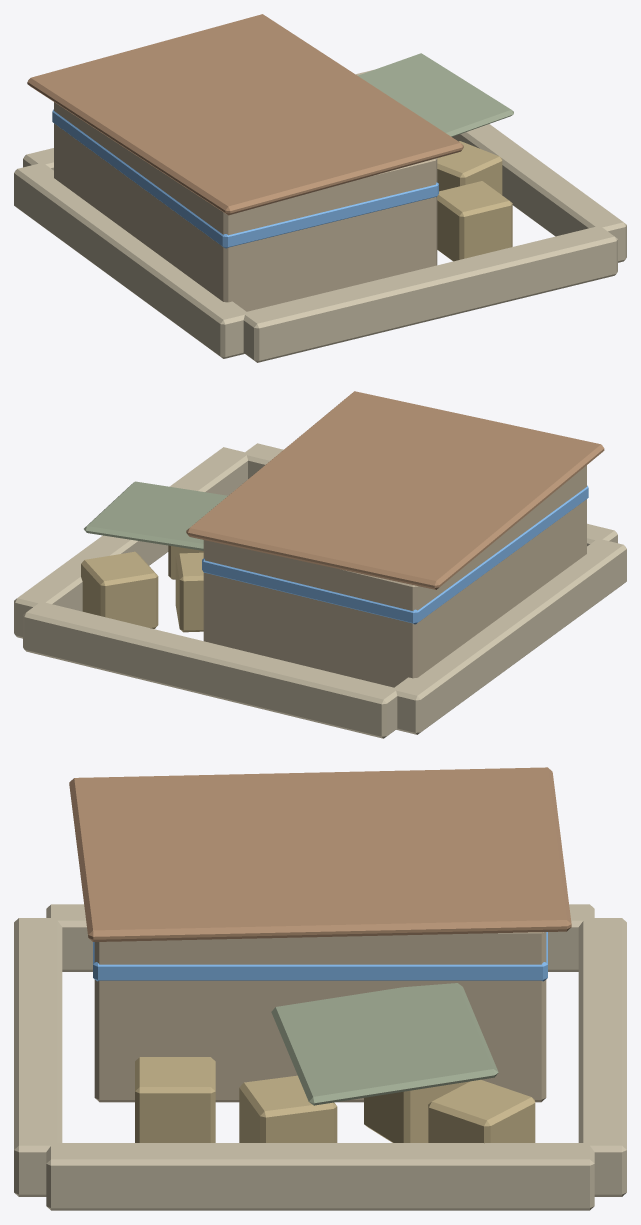
File: supply_stash.glb
The picture shows the model from 3 angles, top to bottom: view 1: azimuth 30°, elevation 25°; view 2: azimuth 150°, elevation 25°; view 3: azimuth 270°, elevation 25°; orthographic projection. The views are drawn at different scales.
Parts seen in each view (by area): view 1: supply_stash; view 2: supply_stash; view 3: supply_stash.
Part boxes in pixels (x1=…): supply_stash: x1=14, y1=14, x2=626, y2=362; supply_stash: x1=14, y1=391, x2=626, y2=738; supply_stash: x1=14, y1=767, x2=626, y2=1210.
Bounding box in the file's own units: 3.83 × 1.28 × 3.8.
